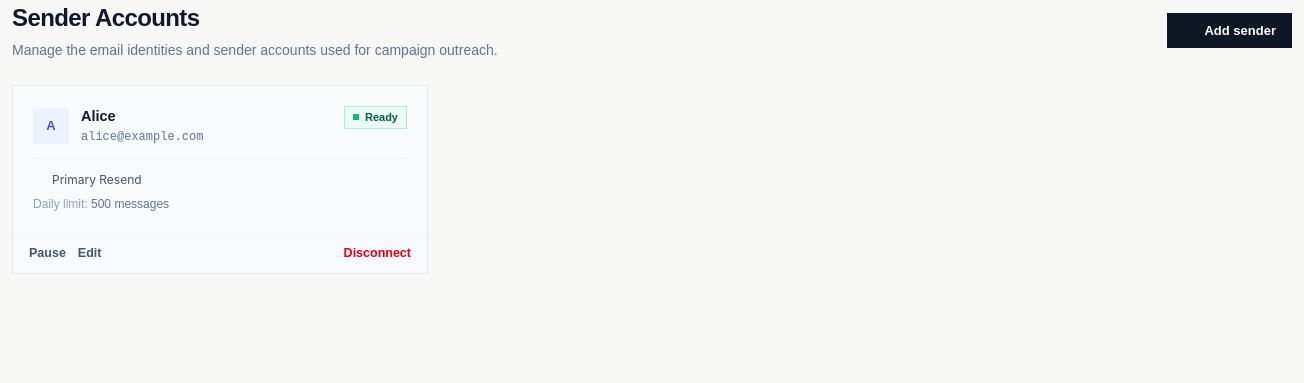
Test: Sender Accounts Page › displays mutation error states
Expected: the text "alice@example.com" is shown, x1=81 y1=128 x2=203 y2=146
Click the button "Pause".
click(47, 253)  # box x1=29 y1=244 x2=66 y2=263
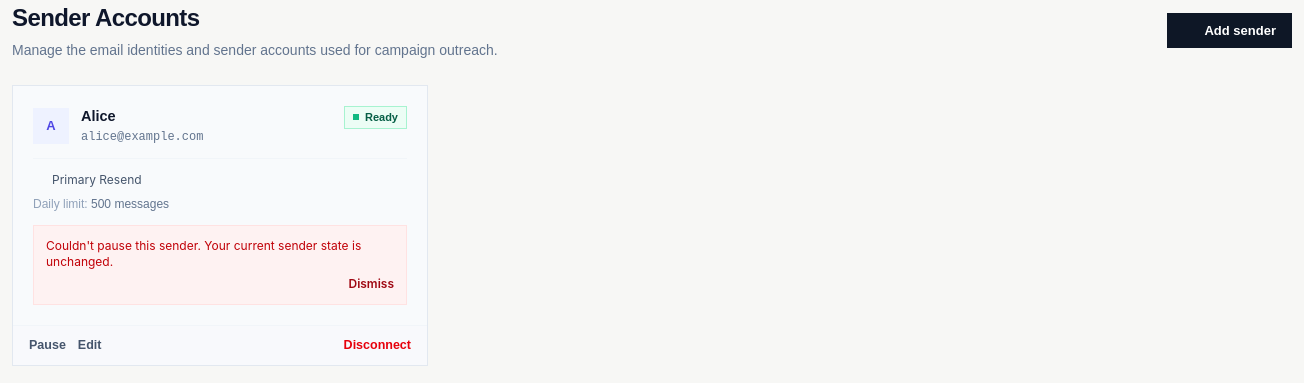
Expected: the text "Couldn't pause this sender." is shown, x1=46 y1=238 x2=201 y2=253
// Dismiss the error
Click the button "Dismiss".
click(371, 284)  # box x1=348 y1=276 x2=394 y2=292
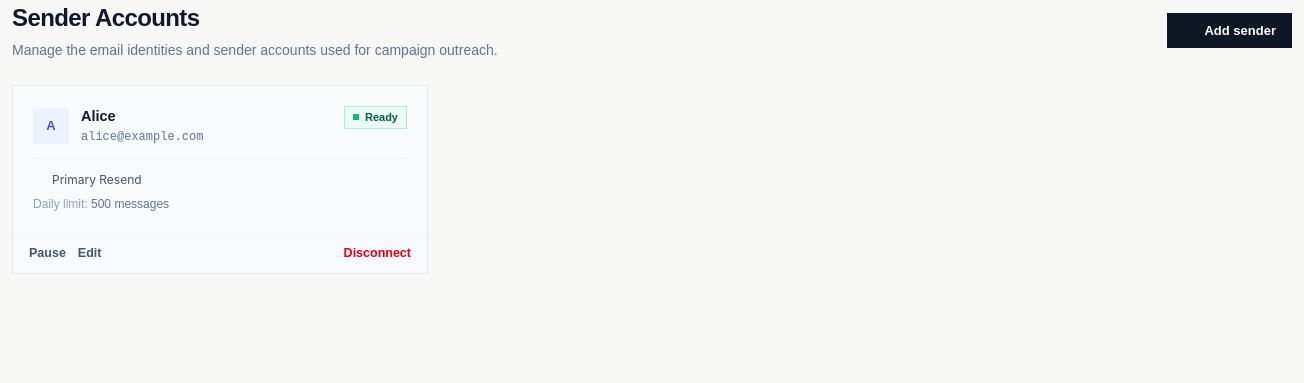
Expected: the text "Couldn't pause this sender." is gone
